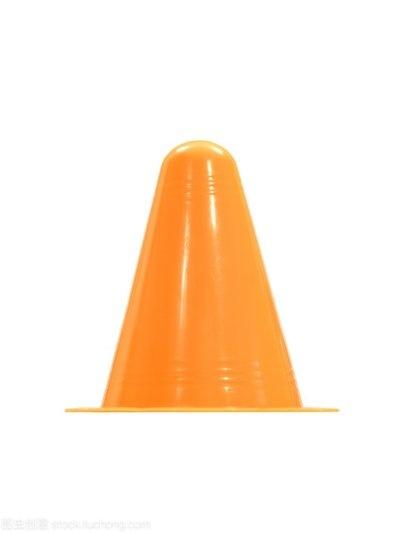cone_barrel: (91, 139, 309, 403)
